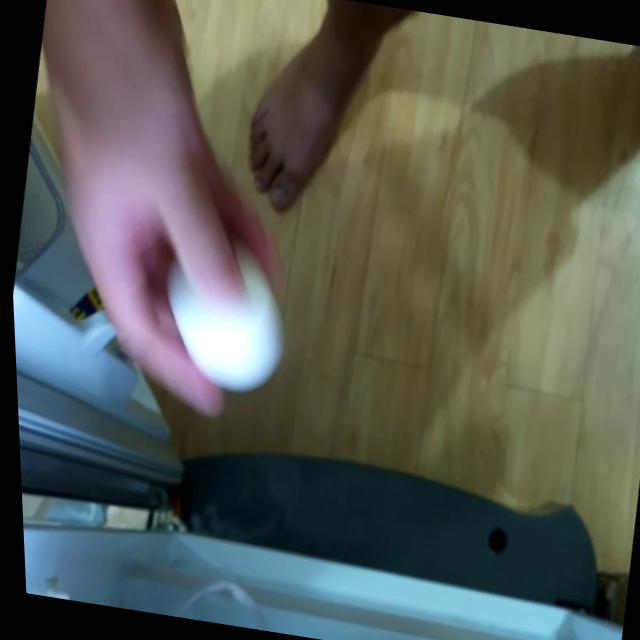egg: (163, 256, 281, 384)
